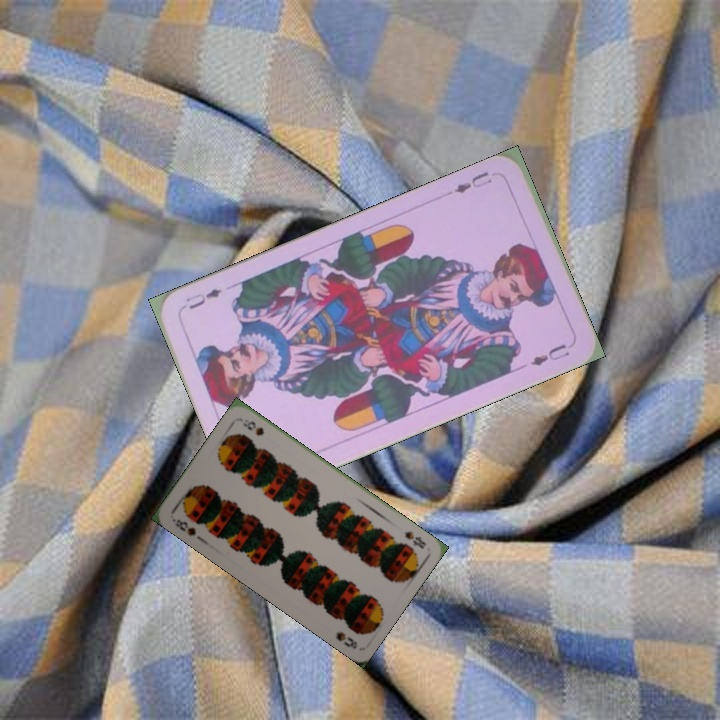EU: (445, 167, 495, 197)
S8: (168, 515, 199, 539), (400, 527, 429, 551)
